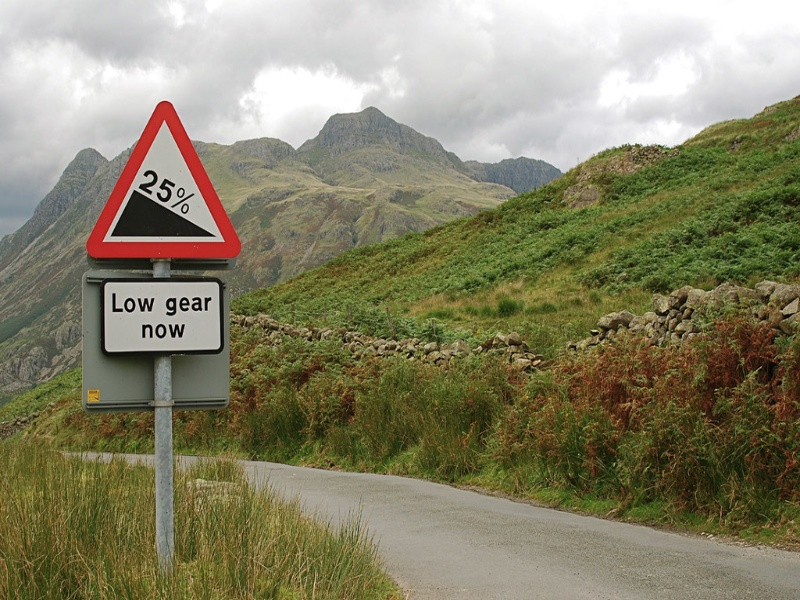go_slow: (99, 267, 239, 359)
